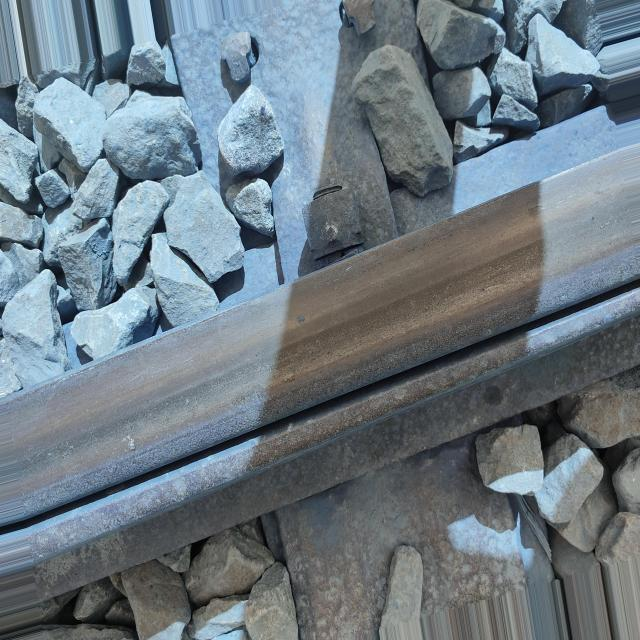non-defective: (2, 140, 638, 628)
